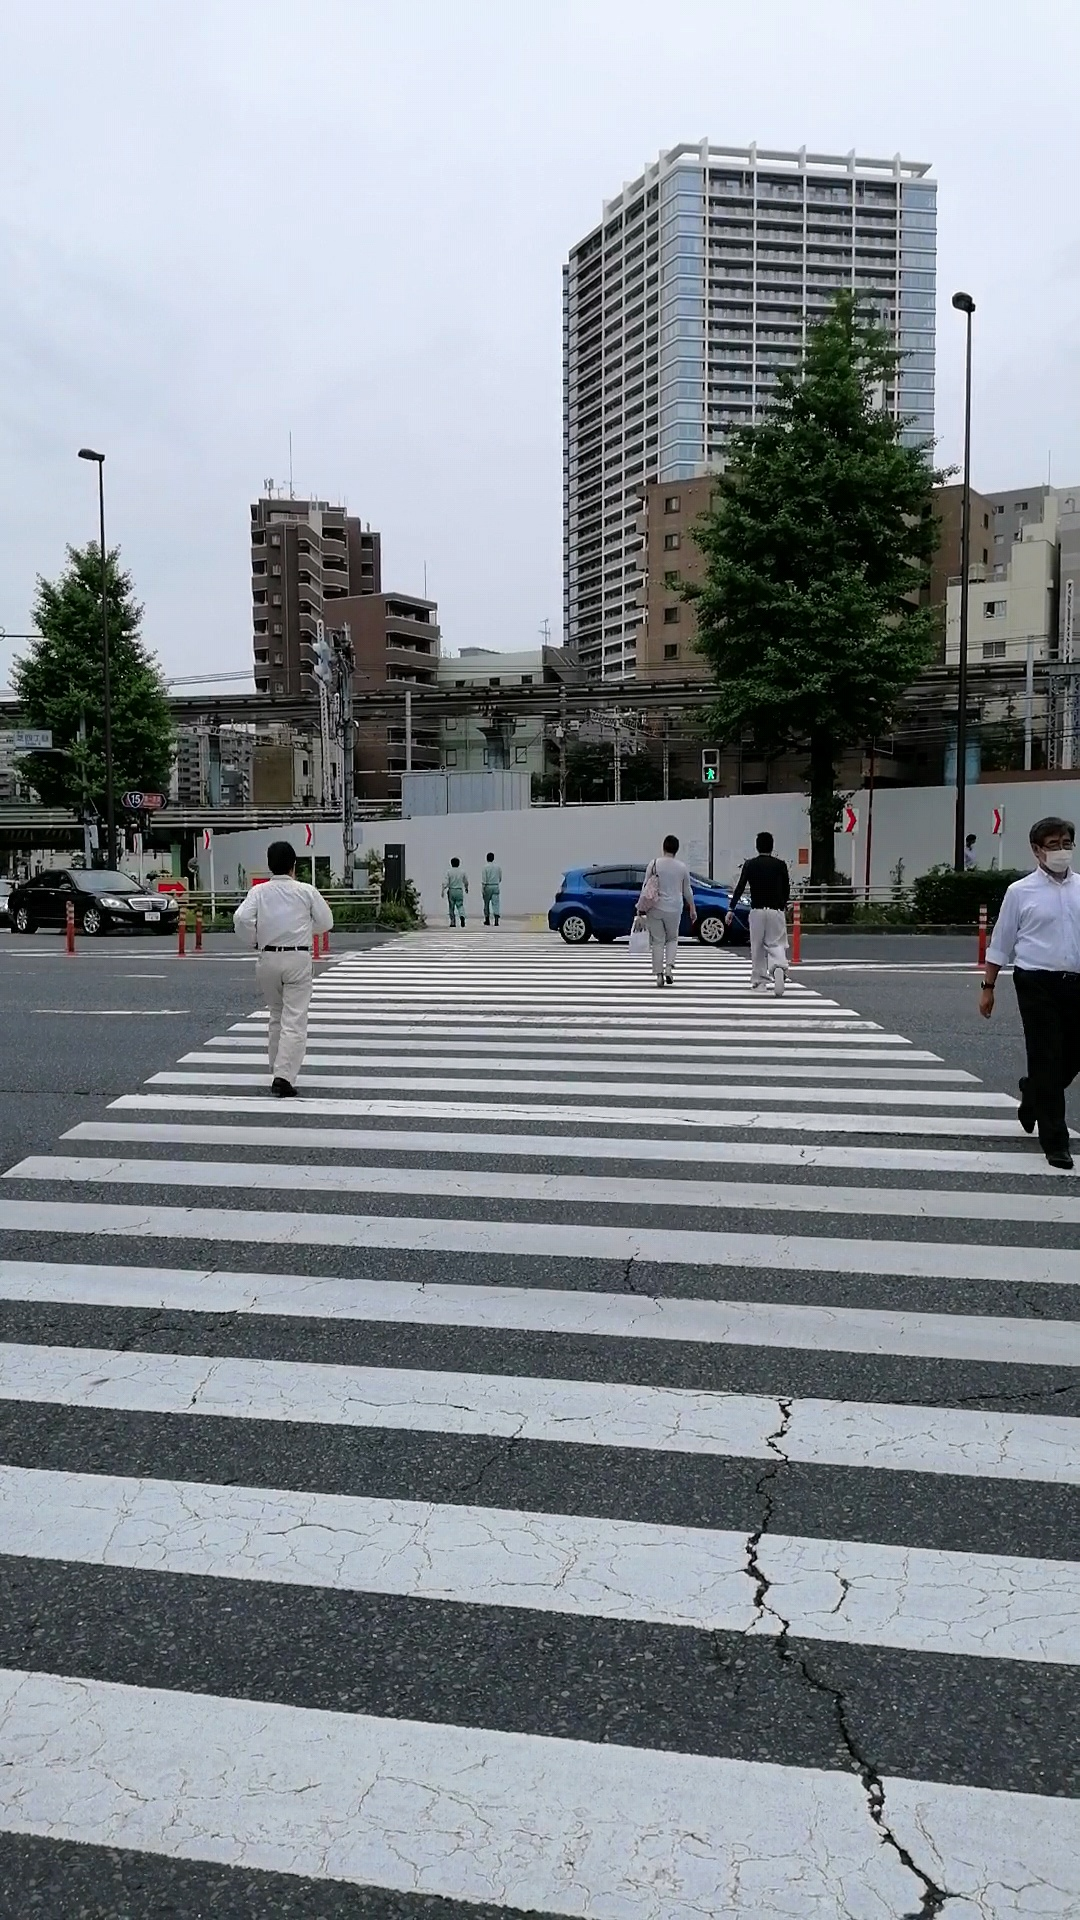green: (700, 746, 719, 783)
